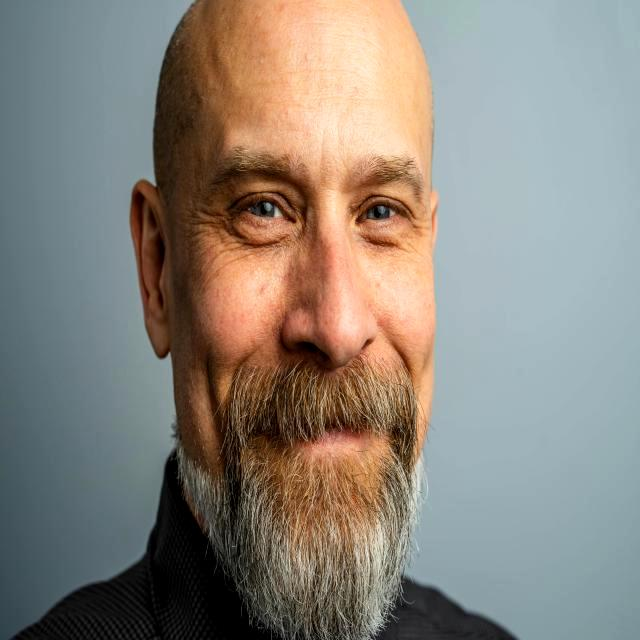no_head_wear: (153, 0, 433, 200)
person: (15, 0, 514, 640)
